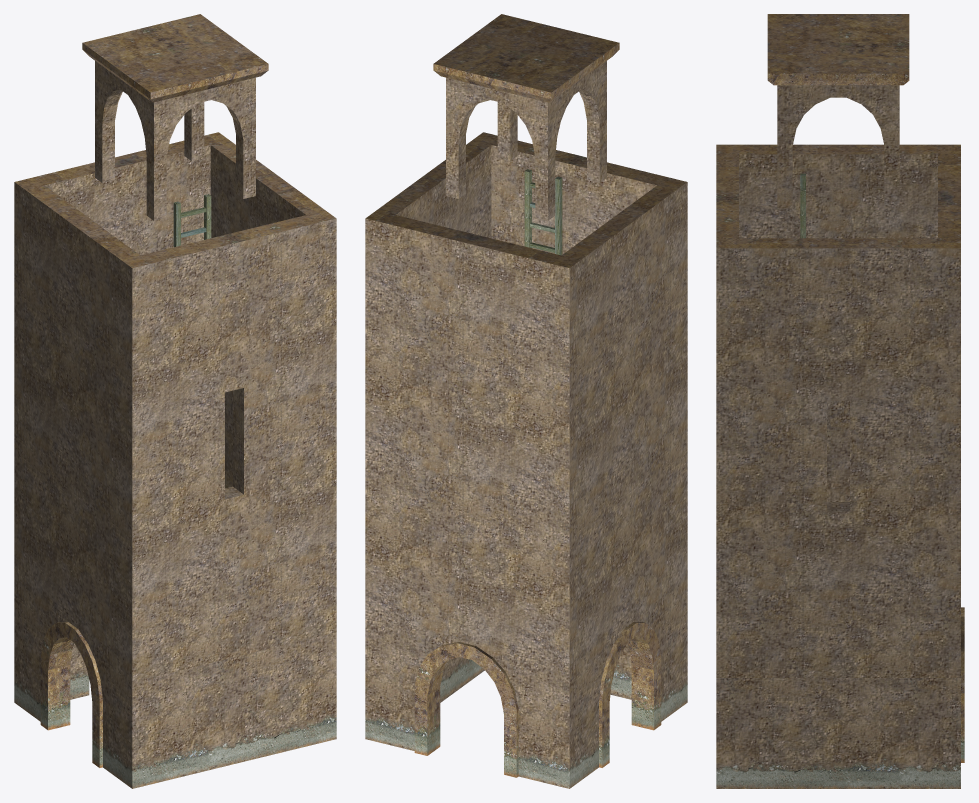
The model's file is domtower.fbx.
3 renders of one model, left to right at view 1: azimuth 30°, elevation 25°; view 2: azimuth 150°, elevation 25°; view 3: azimuth 270°, elevation 25°, orthographic. The views are drawn at different scales.
Visible parts, largest first — view 1: domtower; view 2: domtower; view 3: domtower.
Part boxes in pixels (<box>): domtower: <box>14,14,336,788</box>; domtower: <box>365,14,687,788</box>; domtower: <box>716,14,964,788</box>.
Bounding box in the file's own units: 26000 × 80000 × 26000.
